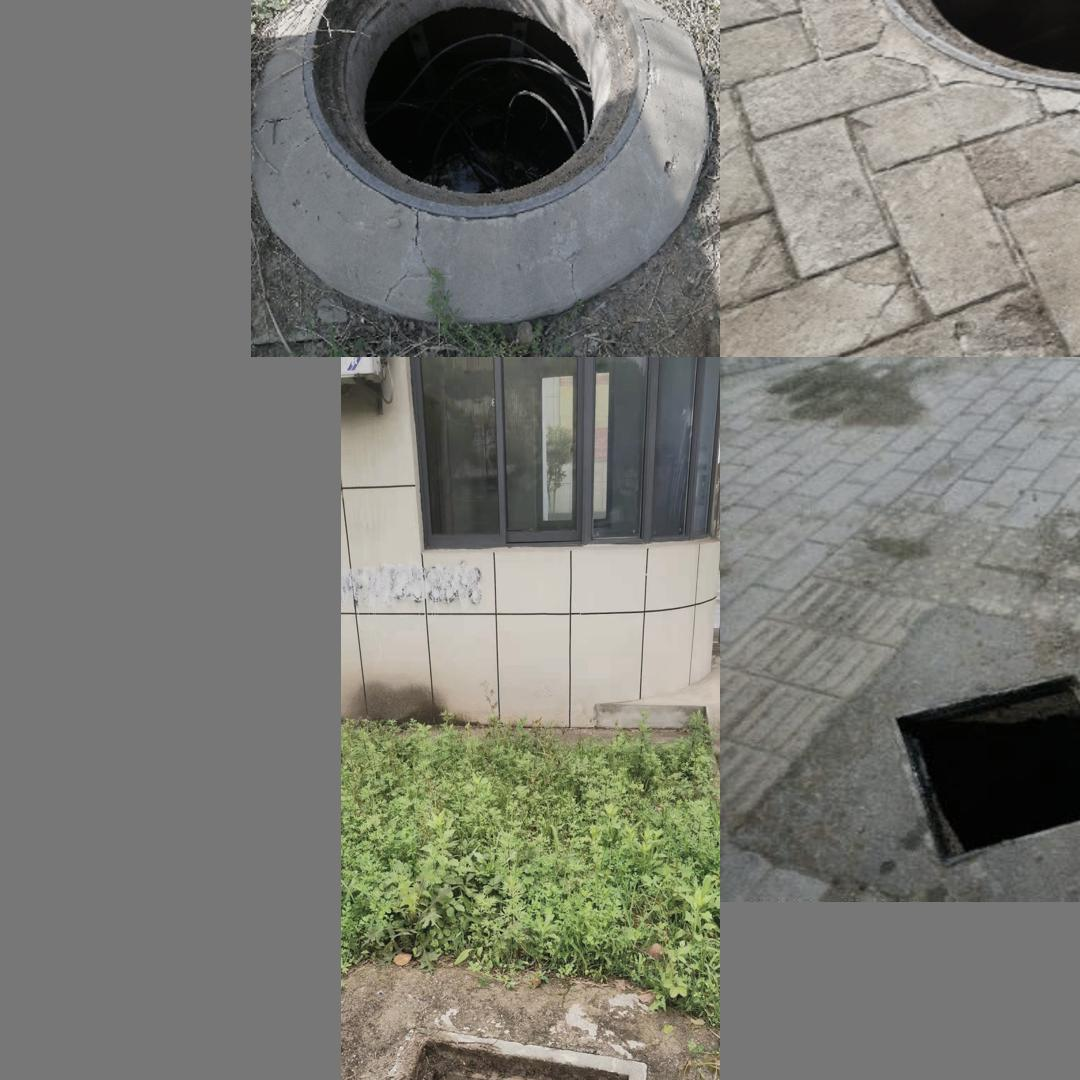lose: (302, 0, 650, 218), (865, 671, 1080, 880), (868, 0, 1080, 87), (346, 1024, 647, 1080)
